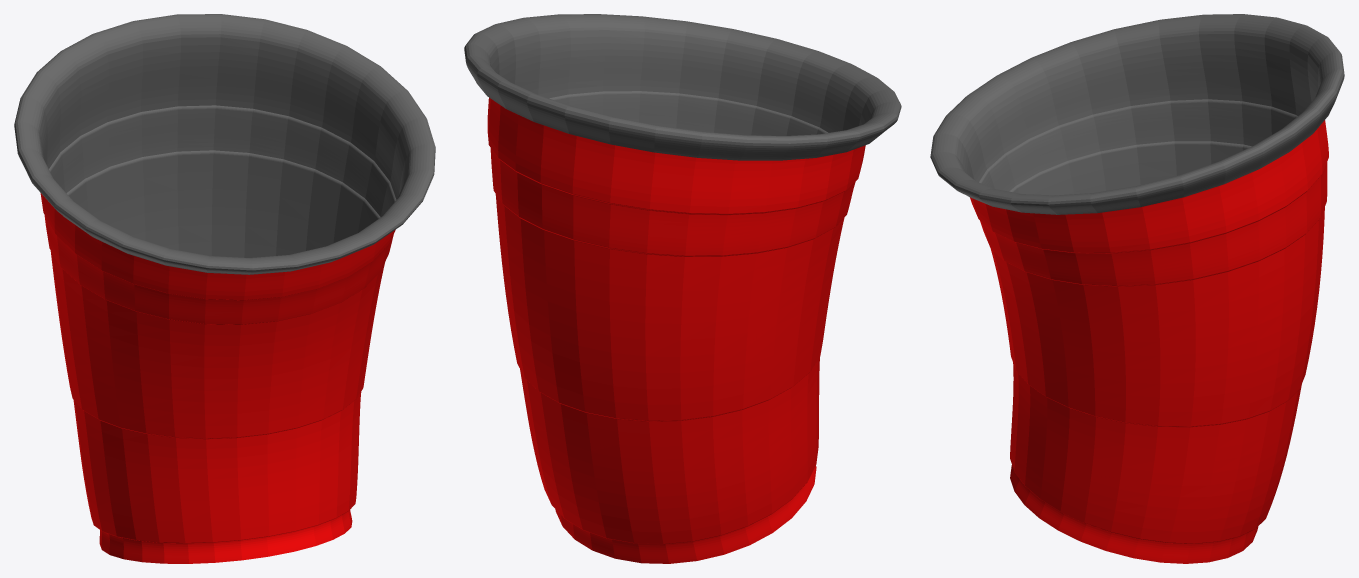
File: bend_low_0.obj
3 views of the same model, side by side, from view 1: azimuth 30°, elevation 25°; view 2: azimuth 150°, elevation 25°; view 3: azimuth 270°, elevation 25° (orthographic). The views are drawn at different scales.
Parts seen in each view (by area): view 1: model; view 2: model; view 3: model.
Part boxes in pixels (box(x1,y1,x2,y2)): model: box(14, 14, 435, 563); model: box(464, 14, 901, 563); model: box(930, 14, 1344, 563).
Bounding box in the file's own units: 0.0962 × 0.1162 × 0.0941.
Materials: 1 (1 with a texture image).
